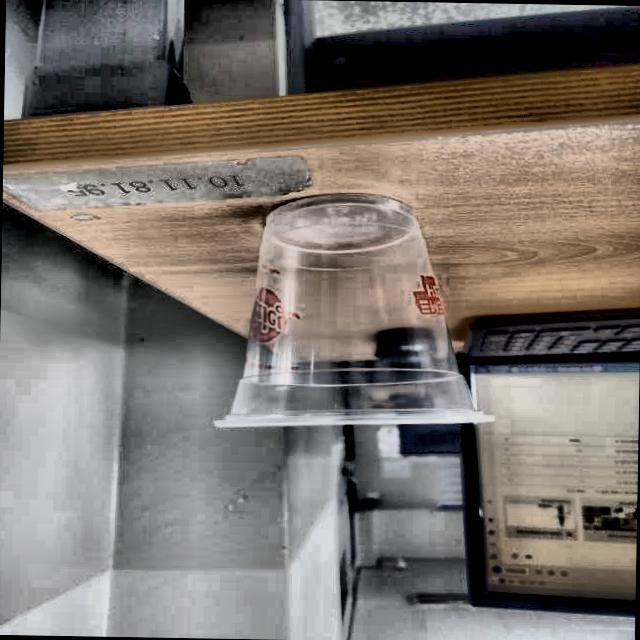plastic cup: (212, 192, 502, 434)
